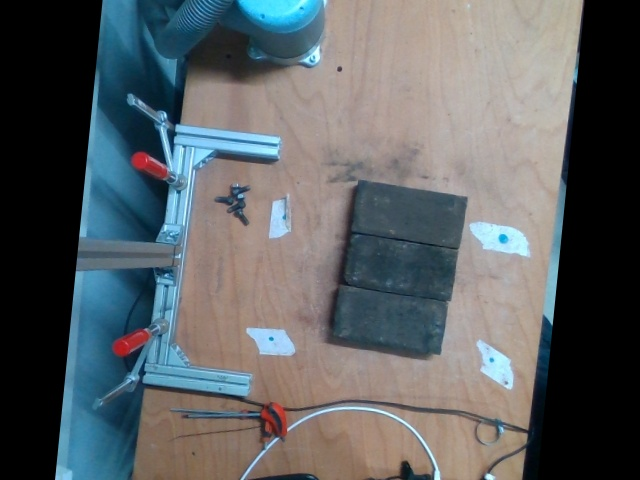brick: (341, 232, 459, 302), (332, 285, 449, 355), (351, 180, 468, 248)
